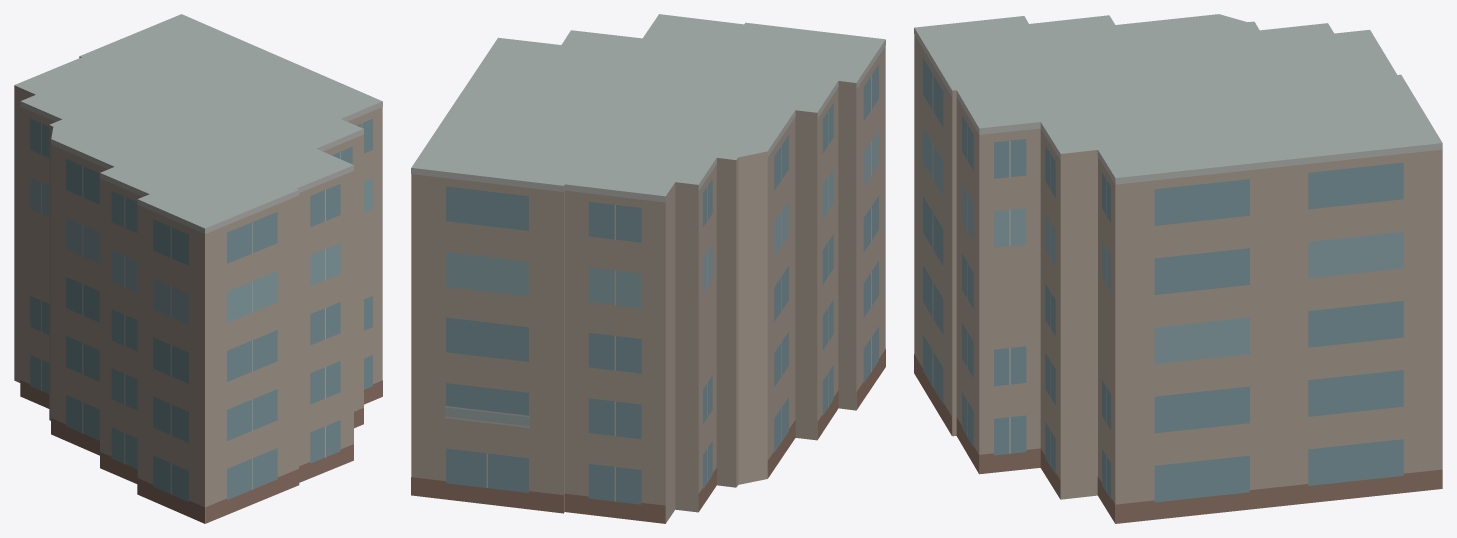
Rendered from survey-upis-32963318.glb.
3 renders of one model, left to right at view 1: azimuth 30°, elevation 25°; view 2: azimuth 150°, elevation 25°; view 3: azimuth 270°, elevation 25°, orthographic. The views are drawn at different scales.
Parts seen in each view (by area): view 1: survey-upis-32963318.tmp; view 2: survey-upis-32963318.tmp; view 3: survey-upis-32963318.tmp.
Boxes of the visible parts, box(x1,y1,x2,y2) form: survey-upis-32963318.tmp: box(14, 14, 382, 523); survey-upis-32963318.tmp: box(411, 14, 885, 523); survey-upis-32963318.tmp: box(914, 14, 1442, 523).
Size of the model in its own units: 13.25 by 13 by 18.02.
